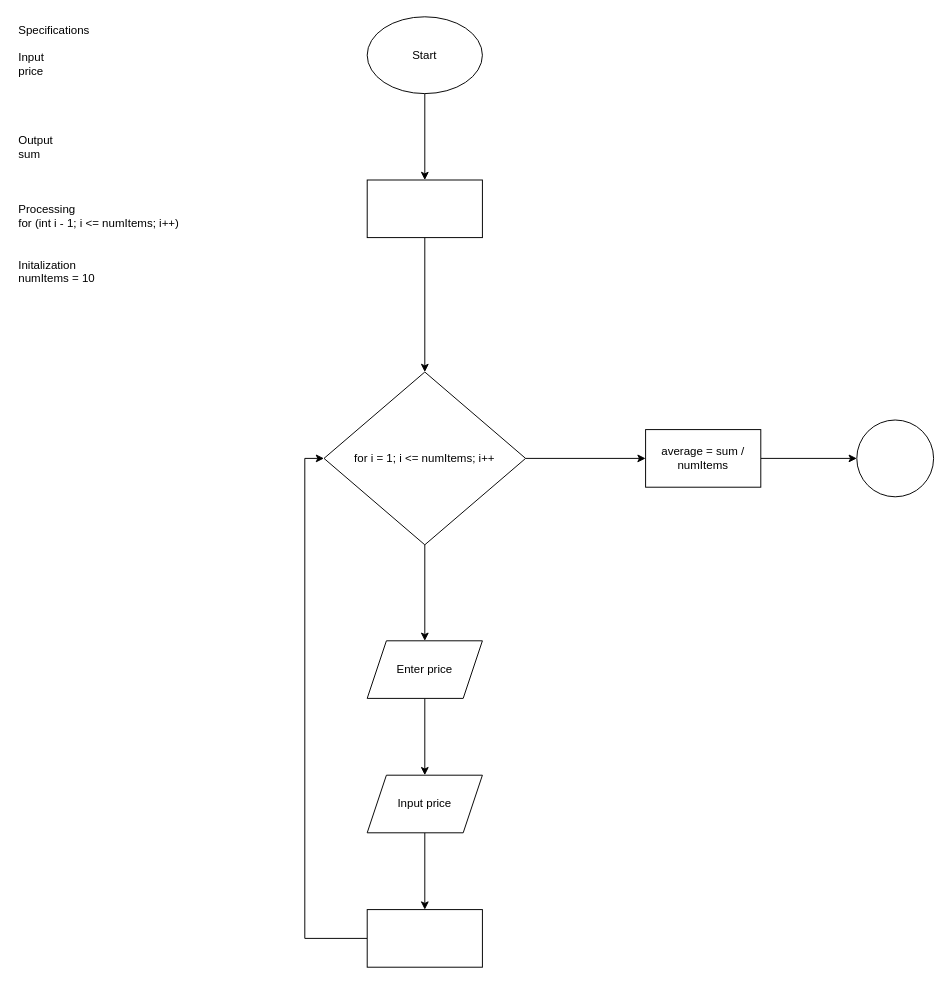
Image size: 950x984. Some labels were removed from this diagram. The shapes that lost their labels are listed below. From the top down, each one's centre as x and y in pixels, then its label:
At [424,208]: "numItems = 10 sum = 0".
At [895,458]: "End".
At [424,938]: "sum = price + sum".
